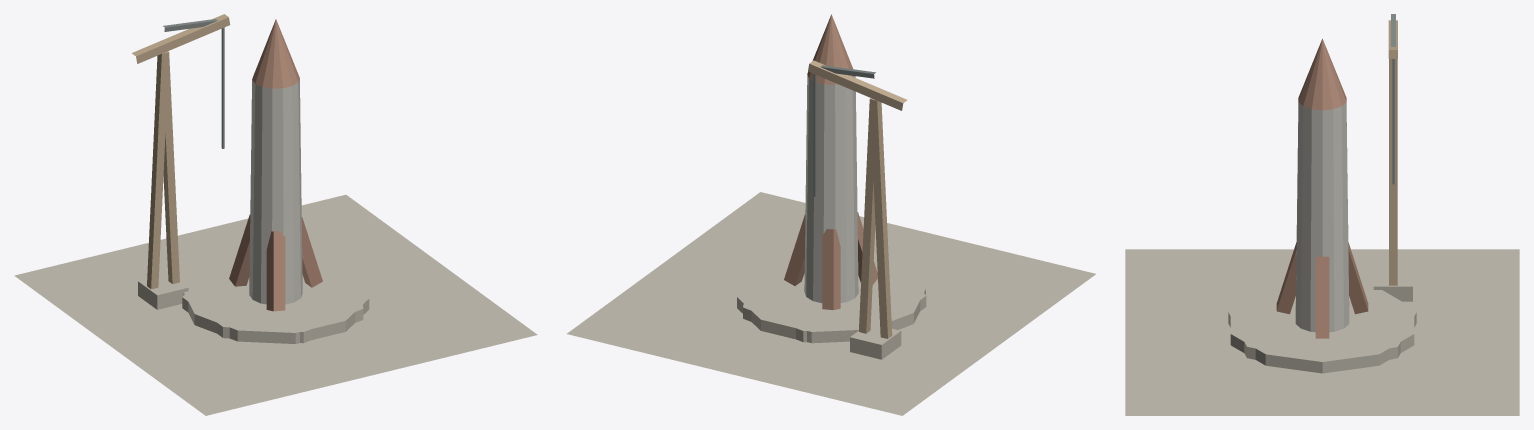
3 views of the same model, side by side, from view 1: azimuth 30°, elevation 25°; view 2: azimuth 150°, elevation 25°; view 3: azimuth 270°, elevation 25° (orthographic). The views are drawn at different scales.
Visible parts, largest first — view 1: Near, Flight, Mid, Far; view 2: Near, Flight, Far, Mid; view 3: Near, Flight, Far, Mid.
Part boxes in pixels (<box>): Near: <box>14,14,537,415</box>; Flight: <box>229,19,322,311</box>; Mid: <box>182,262,363,343</box>; Far: <box>188,273,355,330</box>; Near: <box>567,60,1095,415</box>; Flight: <box>784,14,877,310</box>; Far: <box>749,268,924,328</box>; Mid: <box>743,260,926,342</box>; Near: <box>1125,14,1519,415</box>; Flight: <box>1276,38,1368,338</box>; Far: <box>1231,288,1413,361</box>; Mid: <box>1228,284,1416,361</box>.
Size of the model in its own units: 4 by 3.93 by 4.
